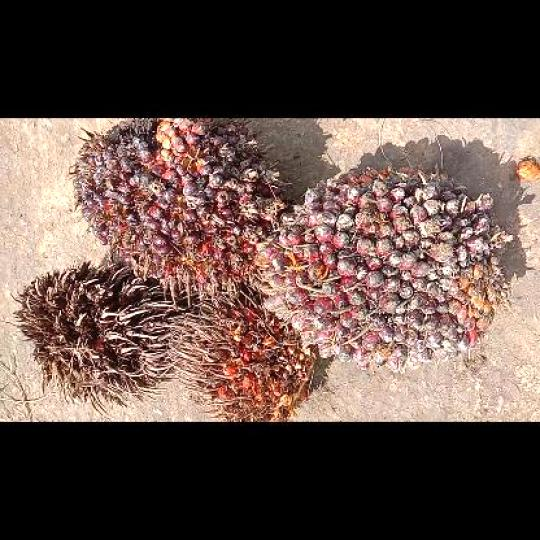kurang masak: (256, 165, 515, 372)
masak: (67, 118, 296, 295)
terlalu masak: (167, 291, 324, 420)
